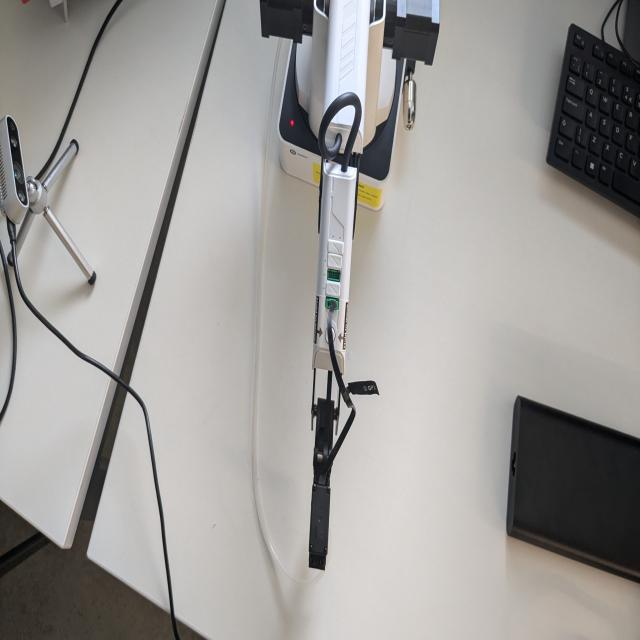Robot-end-effector-HF8z: (307, 461, 333, 577)
